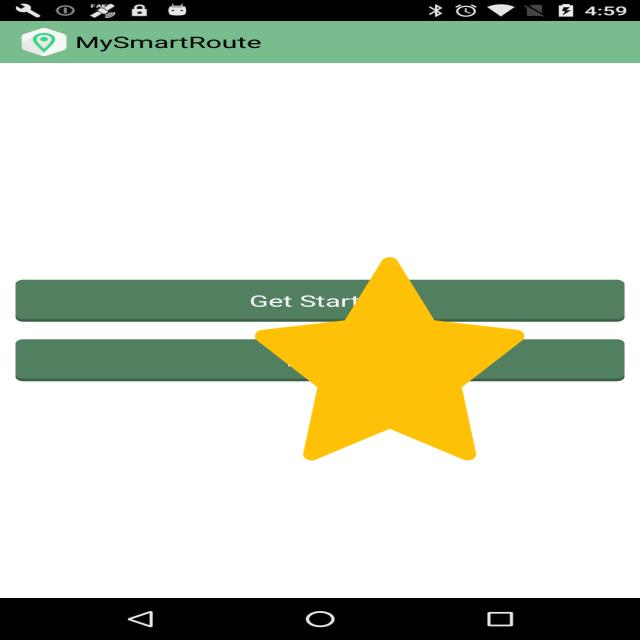forced continuity: (255, 257, 524, 461)
